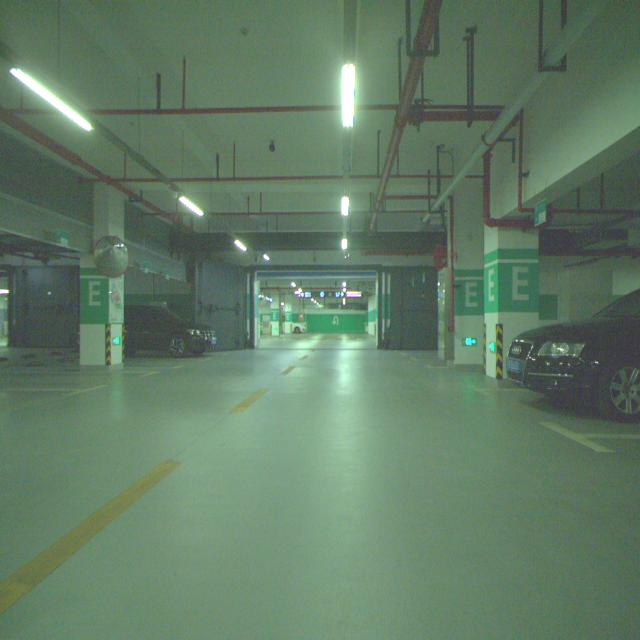pillar: (80, 183, 129, 366), (484, 227, 539, 378)
